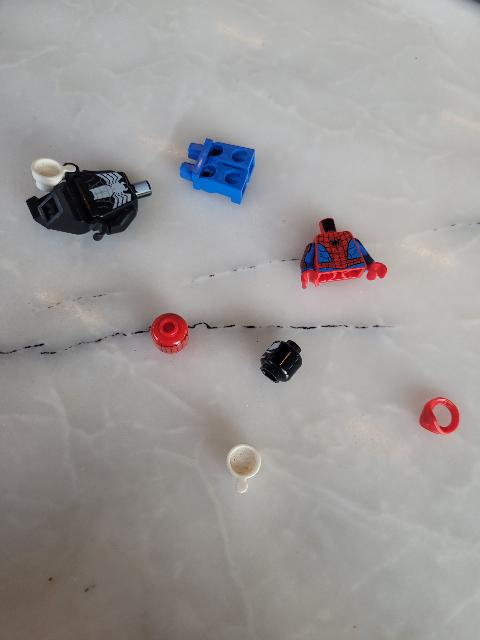Plastik: (22, 156, 156, 245), (294, 219, 390, 291), (179, 136, 256, 209), (260, 333, 305, 388), (226, 441, 266, 493), (148, 313, 189, 359), (417, 396, 461, 437)
